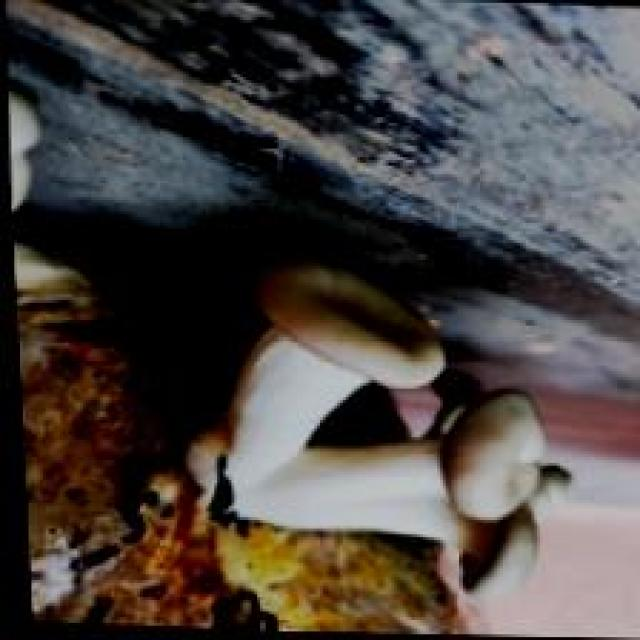death-cap: (195, 260, 574, 611)
